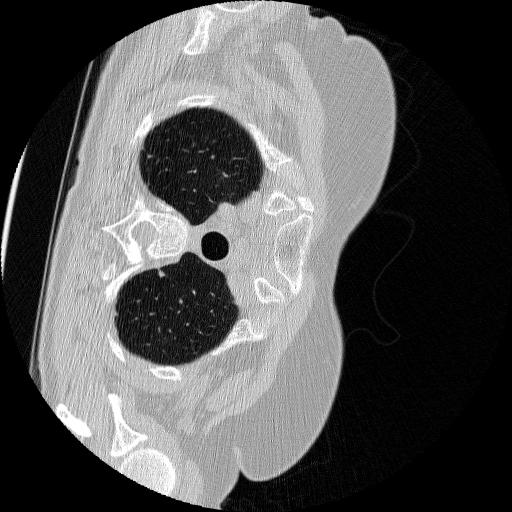nodule: (155, 270, 169, 284)
